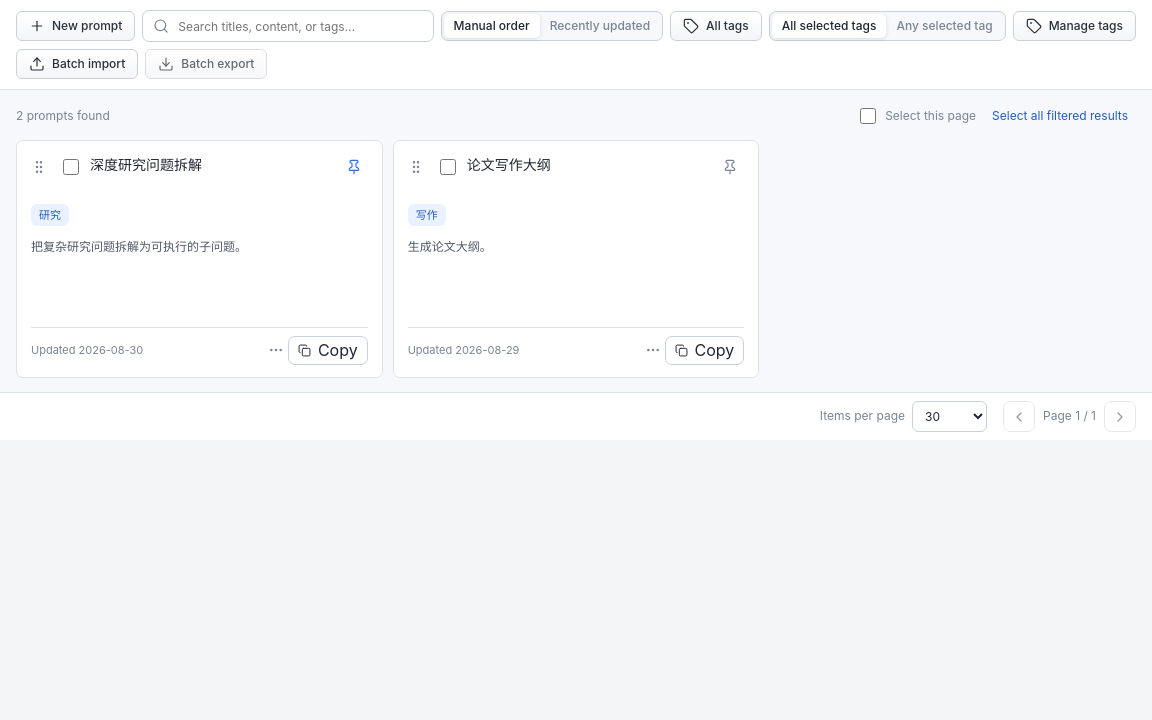
Test: PromptsView › surfaces delete conflicts in the read-only drawer
Click the element "深度研究问题拆解": {"x": 199, "y": 259} [16,140,383,378]
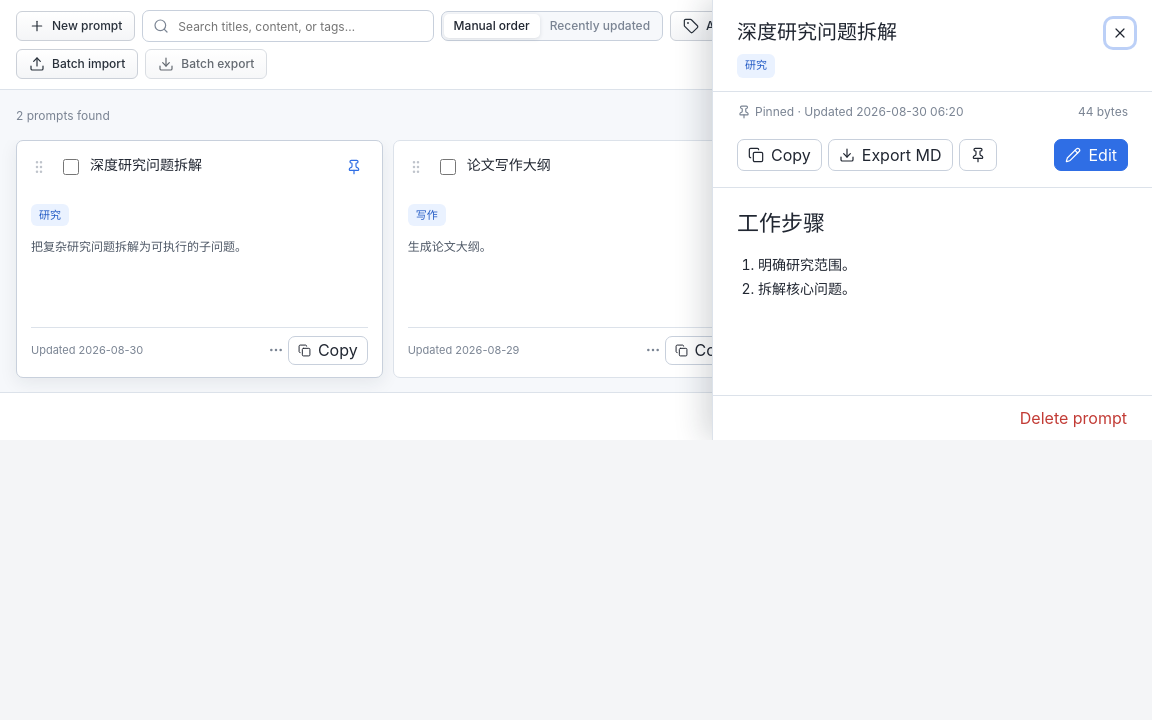
Click the button "Delete prompt": {"x": 1073, "y": 418} [1012,404,1135,432]
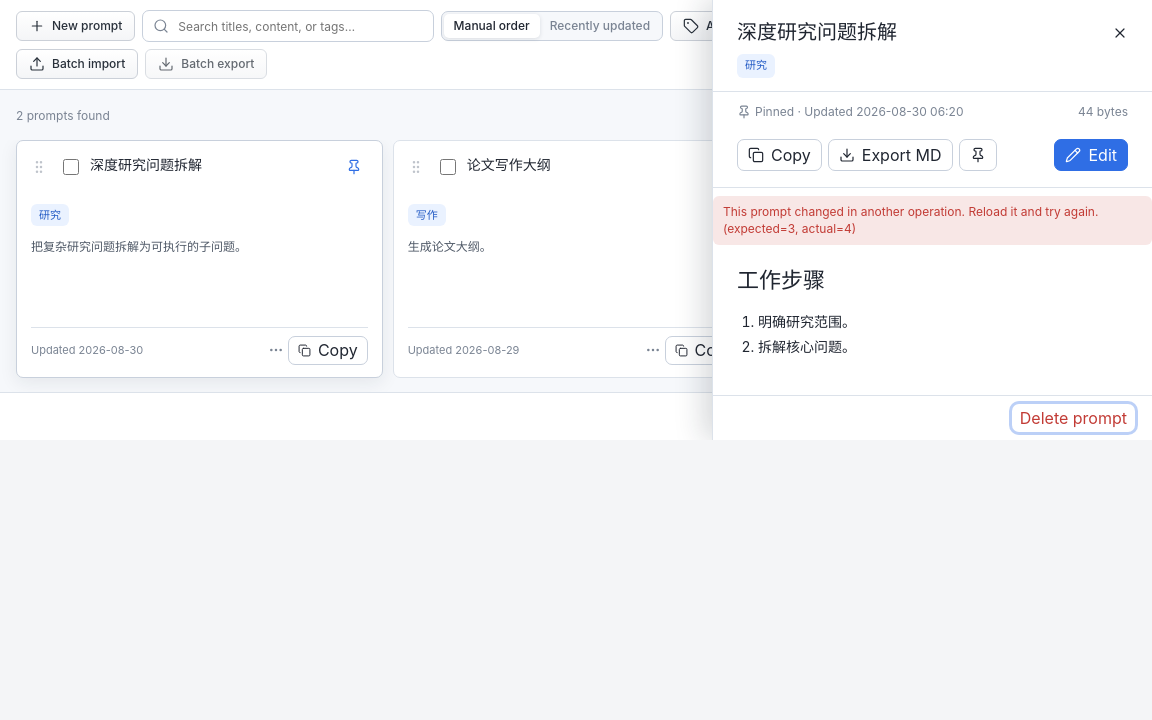
Result: the message shows "This prompt changed in another operation" at [723,204,1098,236]
Result: the message shows "expected=3, actual=4" at [723,204,1098,236]
